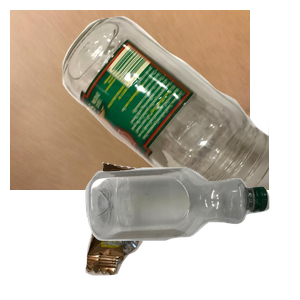cardboard: (10, 10, 250, 190)
glass: (60, 14, 300, 194)
plastic: (83, 165, 300, 300)
trash: (83, 160, 233, 300)
